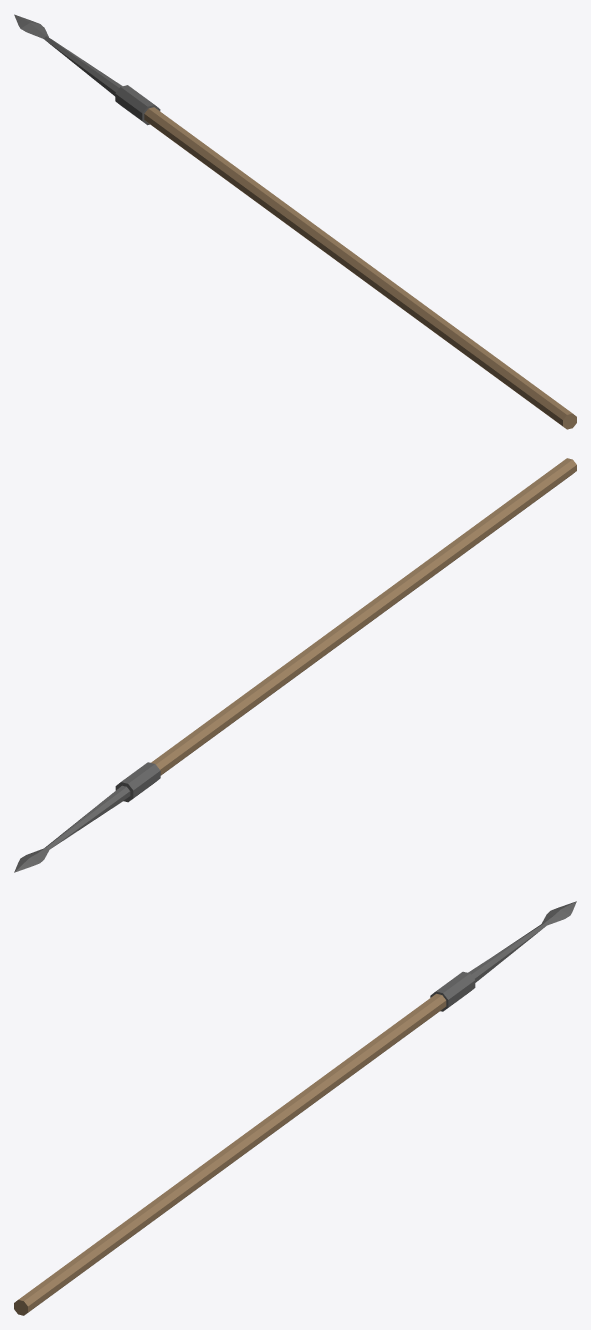
File: spear.fbx
The picture shows the model from 3 angles, top to bottom: view 1: azimuth 30°, elevation 25°; view 2: azimuth 150°, elevation 25°; view 3: azimuth 330°, elevation 25°; orthographic projection.
Visible parts, largest first — view 1: spear; view 2: spear; view 3: spear.
Boxes of the visible parts, x1,y1,x2,y2 form: spear: (14, 14, 576, 429); spear: (14, 458, 576, 872); spear: (14, 901, 576, 1315).
Bounding box in the file's own units: 34.37 × 30.67 × 1663.
